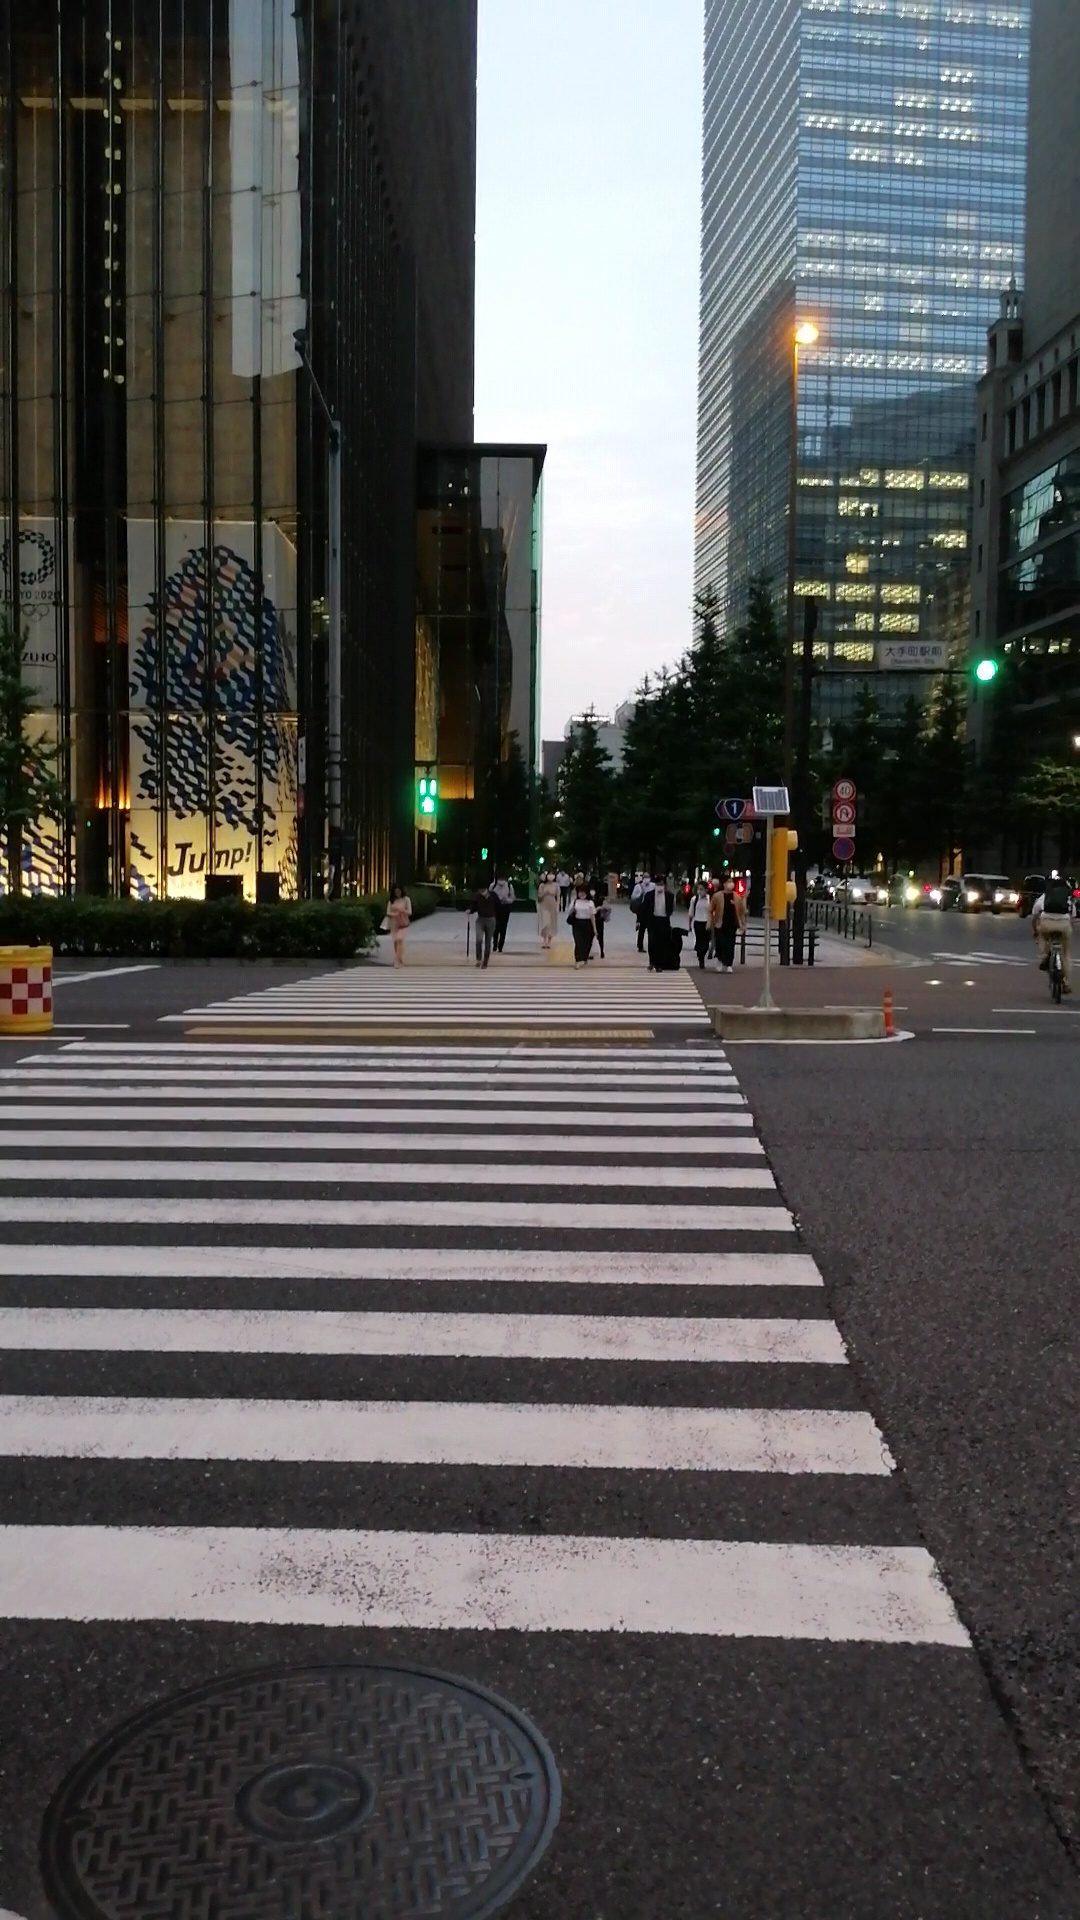green: (415, 775, 439, 815)
